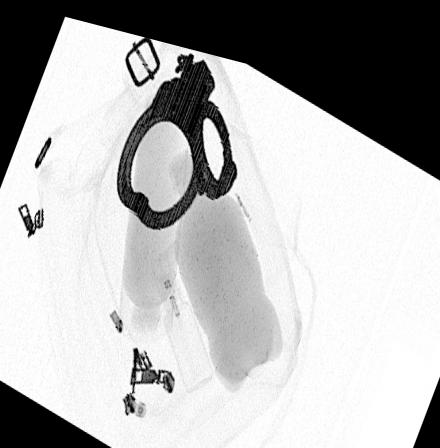HandCuffs: (113, 39, 237, 220)
